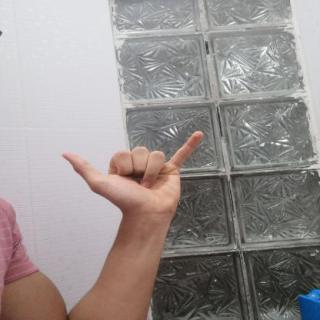YA: (50, 123, 214, 224)
